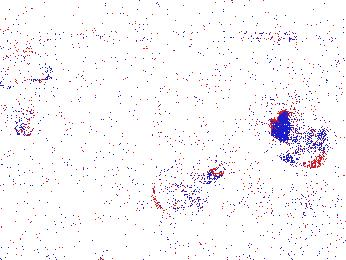flame jellyfish: (152, 162, 223, 224), (1, 49, 51, 136), (268, 110, 336, 167)
